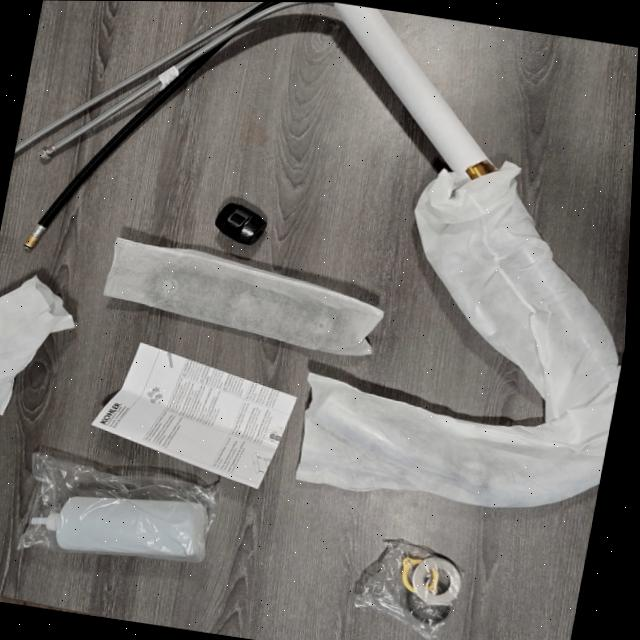1c: (296, 2, 621, 506), (13, 2, 306, 249)
2c: (0, 275, 74, 414)
3: (19, 451, 217, 561)
4c: (103, 237, 383, 355)
5: (214, 202, 266, 244)
6: (354, 539, 461, 640)
8: (92, 343, 295, 487)
